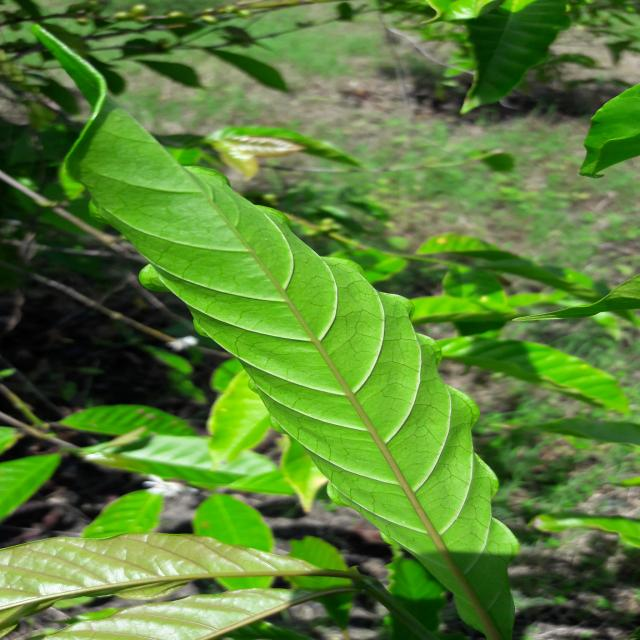Sanas: (58, 80, 521, 640)
